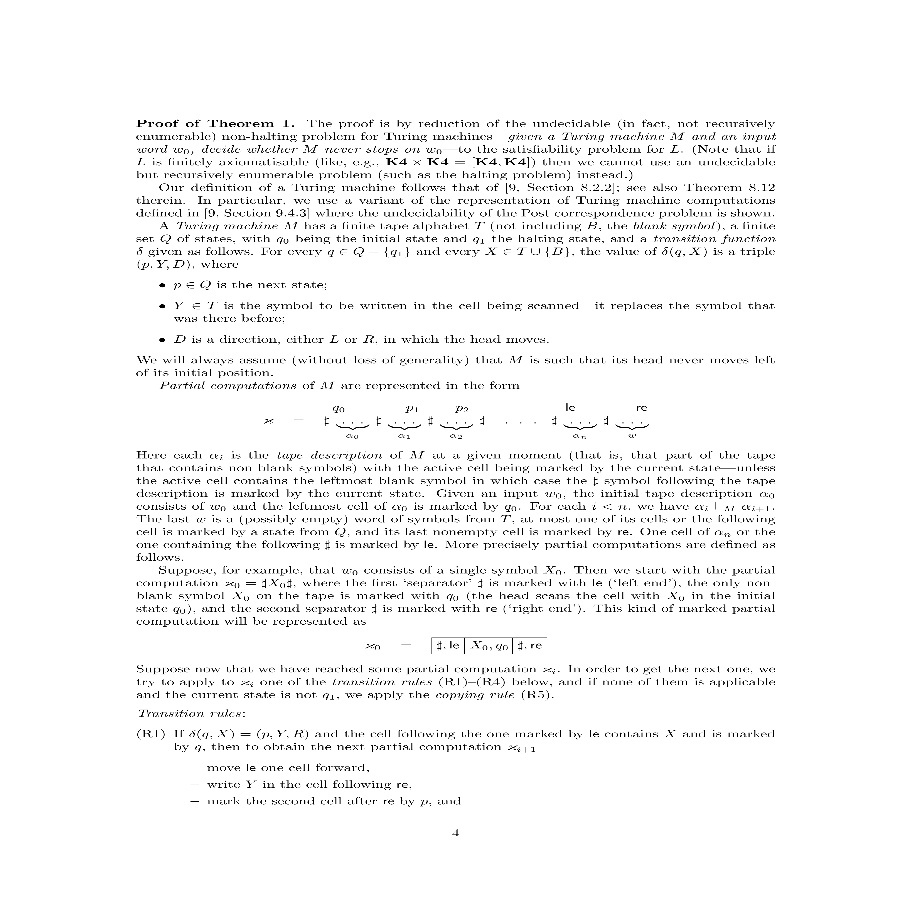eq: (256, 404, 668, 442), (359, 635, 549, 657)
